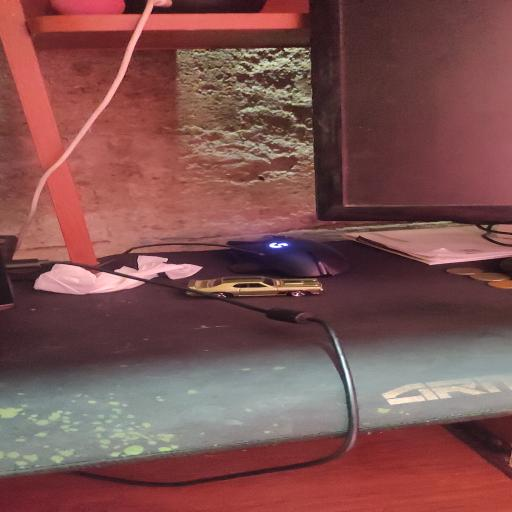Carrito: (186, 276, 323, 298)
